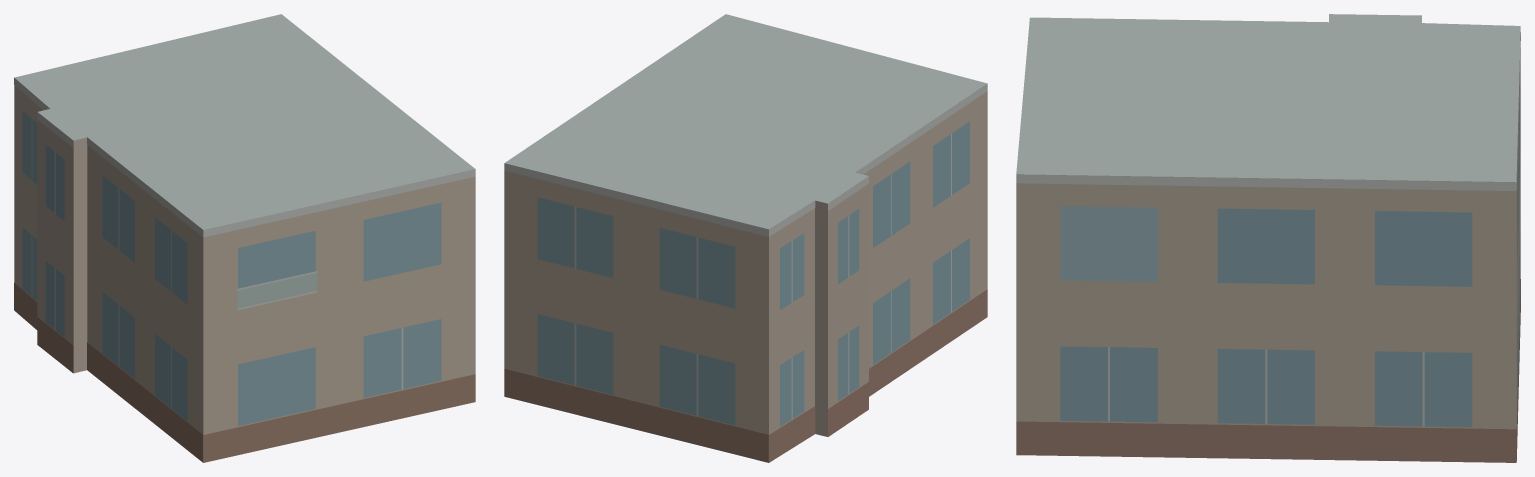
Rendered from survey-upis-32929769.glb.
The picture shows the model from 3 angles, left to right: view 1: azimuth 30°, elevation 25°; view 2: azimuth 150°, elevation 25°; view 3: azimuth 270°, elevation 25°; orthographic projection. The views are drawn at different scales.
Parts seen in each view (by area): view 1: survey-upis-32929769.tmp; view 2: survey-upis-32929769.tmp; view 3: survey-upis-32929769.tmp.
Part boxes in pixels (left/top/right/bottom): survey-upis-32929769.tmp: left=14, top=14, right=475, bottom=462; survey-upis-32929769.tmp: left=504, top=14, right=987, bottom=462; survey-upis-32929769.tmp: left=1016, top=14, right=1520, bottom=462.
Size of the model in its own units: 9.77 by 7.6 by 12.39.
